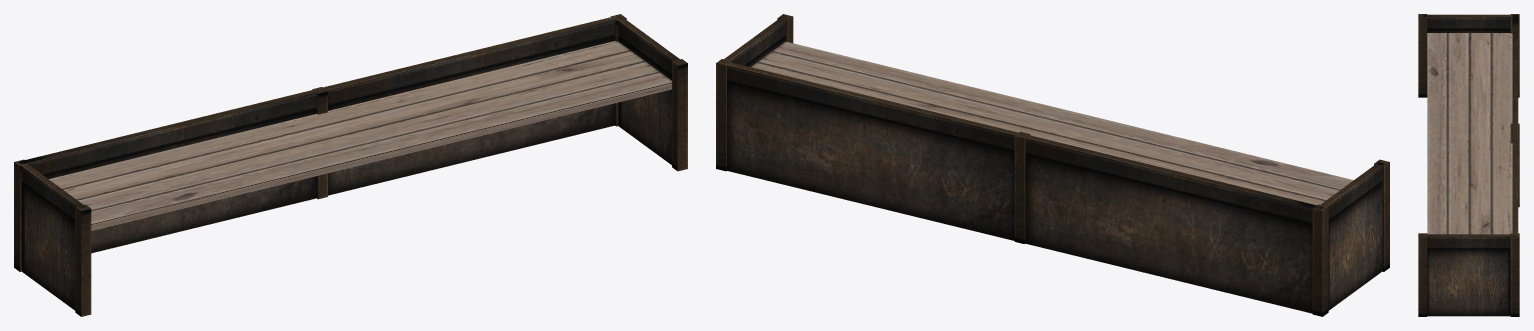
Rendered from uncovered_bus_bench.fbx.
3 renders of one model, left to right at view 1: azimuth 30°, elevation 25°; view 2: azimuth 150°, elevation 25°; view 3: azimuth 270°, elevation 25°, orthographic. The views are drawn at different scales.
Visible parts, largest first — view 1: mesh_0; view 2: mesh_0; view 3: mesh_0.
Boxes of the visible parts, bbox=[...] form: mesh_0: bbox=[14, 14, 687, 316]; mesh_0: bbox=[716, 14, 1389, 316]; mesh_0: bbox=[1418, 14, 1519, 316].
Size of the model in its own units: 300 by 50 by 57.5.
1 material, 1 textured.
